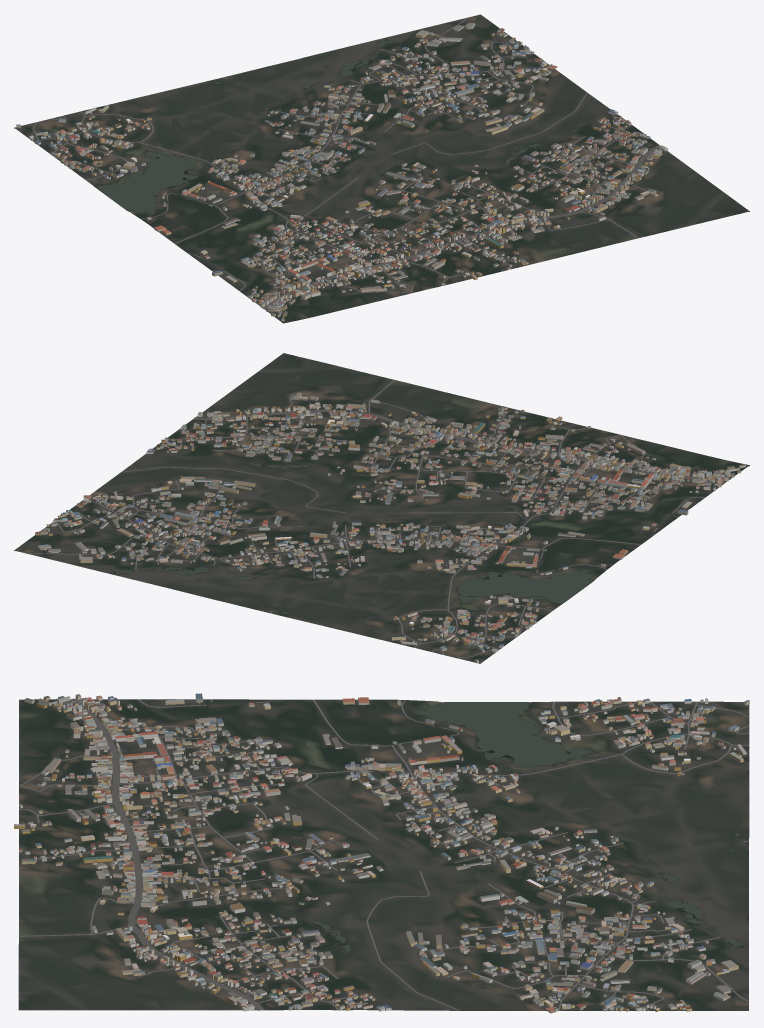
3 renders of one model, top to bottom at view 1: azimuth 30°, elevation 25°; view 2: azimuth 150°, elevation 25°; view 3: azimuth 270°, elevation 25°, orthographic. The views are drawn at different scales.
Visible parts, largest first — view 1: ground, buildings, roads, water; view 2: ground, buildings, roads, water; view 3: ground, buildings, roads, water.
Part boxes in pixels (x1=…): ground: x1=14, y1=14, x2=749, y2=323; buildings: x1=16, y1=22, x2=668, y2=321; roads: x1=33, y1=18, x2=660, y2=309; water: x1=96, y1=40, x2=601, y2=228; ground: x1=14, y1=353, x2=749, y2=663; buildings: x1=35, y1=392, x2=745, y2=663; roads: x1=29, y1=380, x2=730, y2=658; water: x1=111, y1=457, x2=592, y2=613; ground: x1=18, y1=699, x2=749, y2=1010; buildings: x1=14, y1=693, x2=749, y2=1013; roads: x1=19, y1=698, x2=749, y2=1010; water: x1=312, y1=702, x2=743, y2=1005.
Size of the model in its own units: 1424 by 22.86 by 1413.
